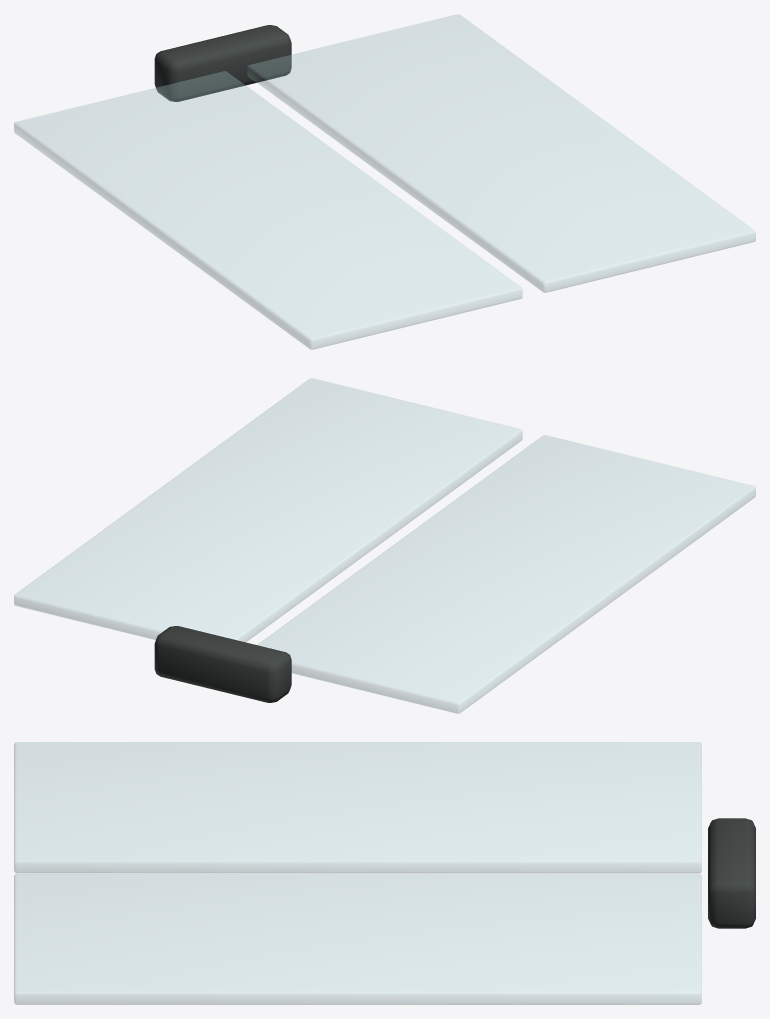
File: equipment_auto_door.glb
3 views of the same model, one above another, from view 1: azimuth 30°, elevation 25°; view 2: azimuth 150°, elevation 25°; view 3: azimuth 270°, elevation 25° (orthographic). The views are drawn at different scales.
Visible parts, largest first — view 1: DoorLeaf, DoorLeaf.001, Sensor; view 2: DoorLeaf, DoorLeaf.001, Sensor; view 3: DoorLeaf, DoorLeaf.001, Sensor.
Part boxes in pixels (bbox=[...]): DoorLeaf: bbox=[14, 71, 522, 349]; DoorLeaf.001: bbox=[247, 14, 755, 292]; Sensor: bbox=[154, 25, 291, 101]; DoorLeaf: bbox=[258, 435, 755, 713]; DoorLeaf.001: bbox=[14, 378, 522, 641]; Sensor: bbox=[154, 626, 291, 702]; DoorLeaf: bbox=[14, 742, 701, 872]; DoorLeaf.001: bbox=[14, 874, 701, 1004]; Sensor: bbox=[708, 818, 755, 928].
Size of the model in its own units: 1.99 by 0.18 by 2.48.
